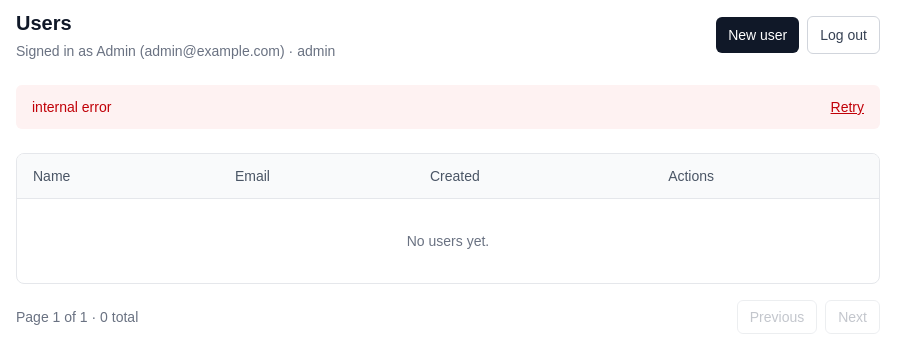
shows an error banner with a working retry on fetch failure
Expected: the text "internal error" is shown, [32,97,111,117]
Click the button "Retry".
click(847, 107)  # box [830,97,864,117]
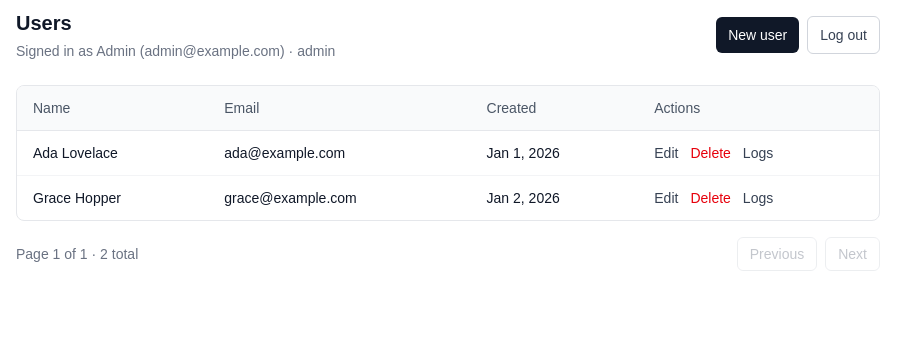
Expected: the text "Ada Lovelace" is shown, [17,130,208,176]
